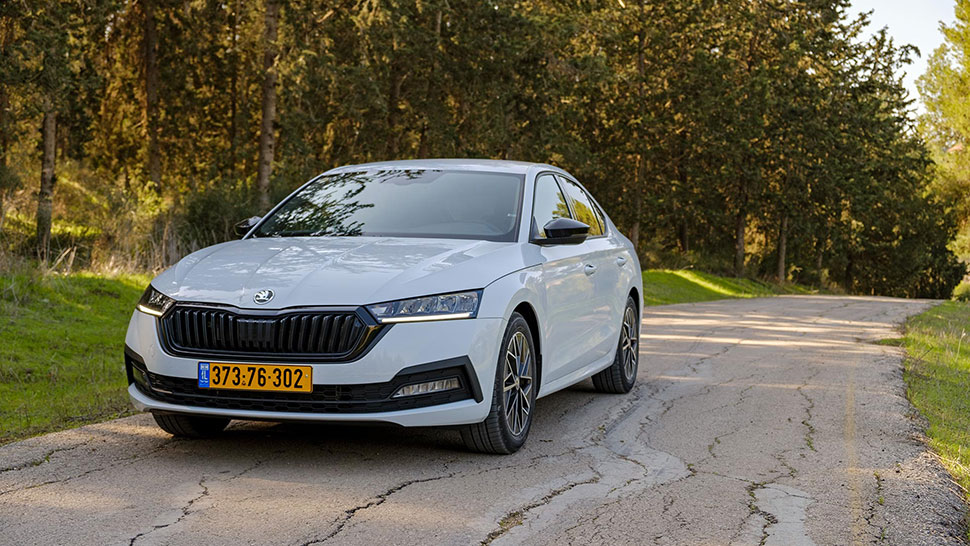licence: (198, 360, 315, 392)
